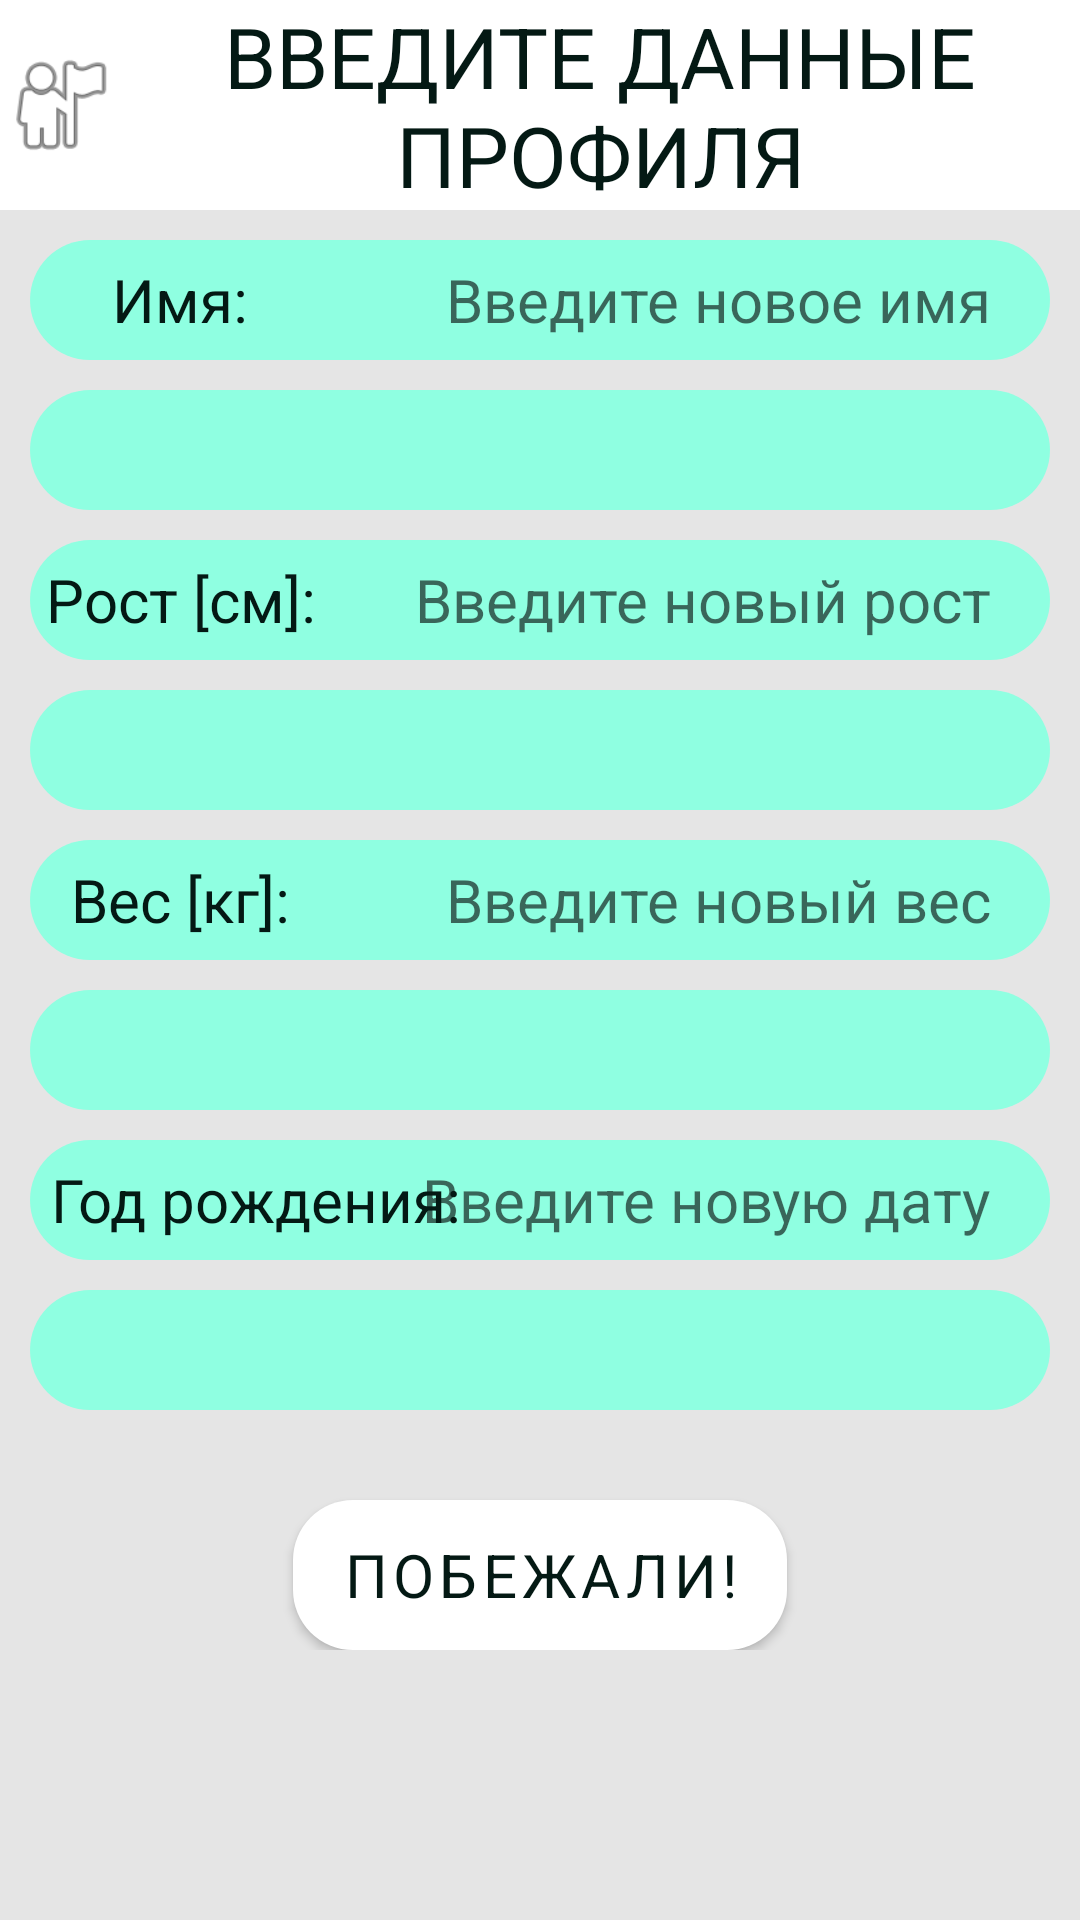

Where to tap for icons on this 1080 x 1920 app screen, as (x=x, y=y):
myplaces: (x=61, y=105)
